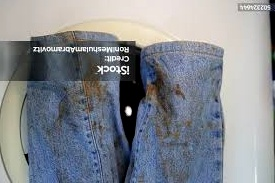earth: (147, 74, 168, 107), (80, 81, 102, 110), (162, 112, 175, 127), (174, 84, 185, 98)
